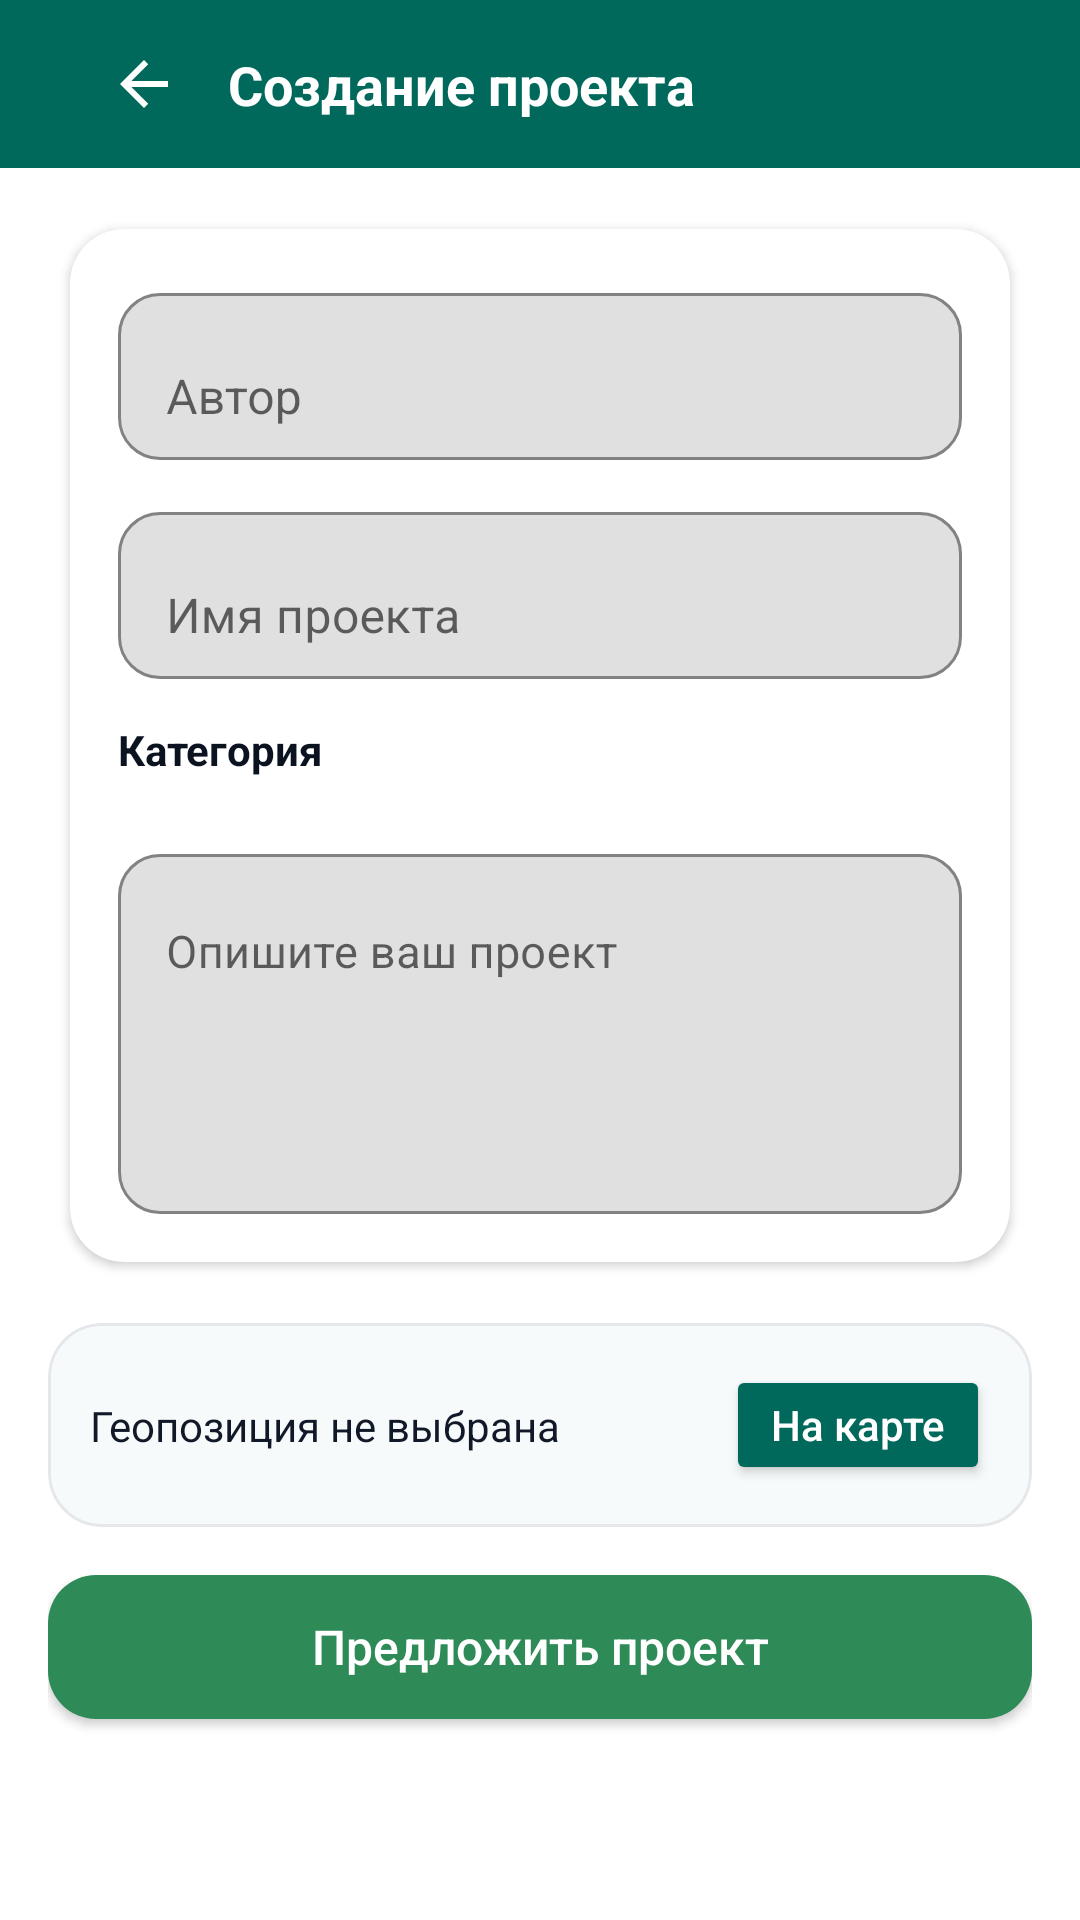

Locate icon controls on the screen. Image size 1080 × 1920, boxes as rect(x1, y1, x2, y2).
back: rect(120, 60, 168, 108)
